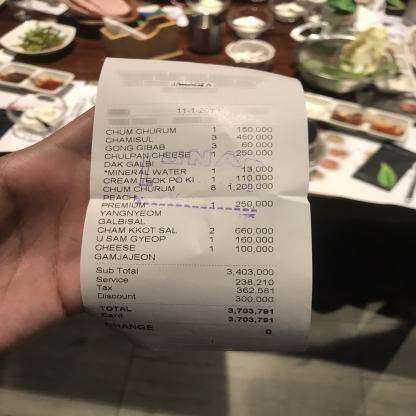receipts: (96, 62, 292, 338)
